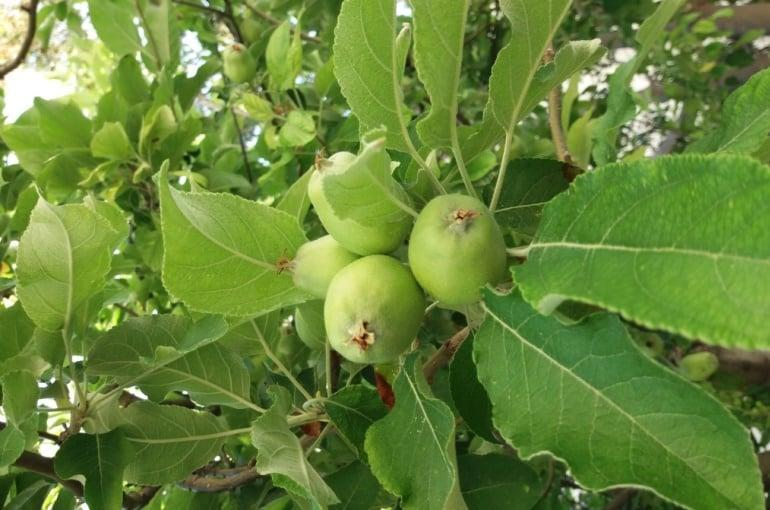apple: (405, 194, 508, 309), (321, 257, 424, 366), (307, 151, 409, 251), (220, 42, 256, 83)
